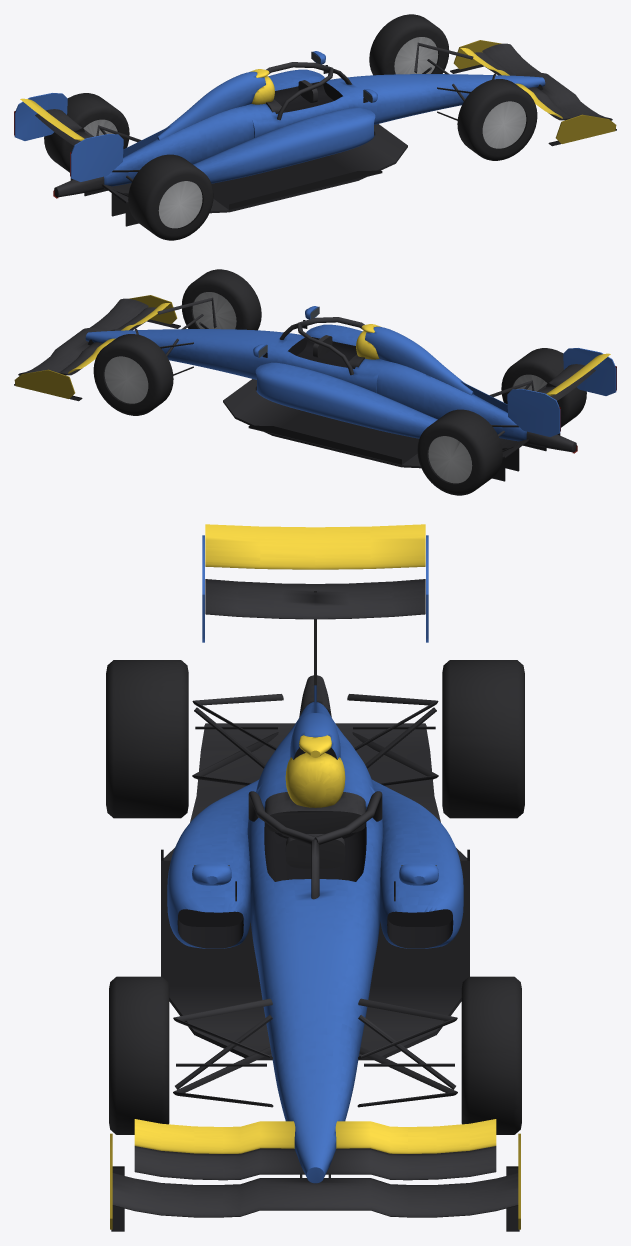
Rendered from car.glb.
3 renders of one model, top to bottom at view 1: azimuth 30°, elevation 25°; view 2: azimuth 150°, elevation 25°; view 3: azimuth 270°, elevation 25°, orthographic. The views are drawn at different scales.
Visible parts, largest first — view 1: body, floor, tyre_rr, tyre_fr, tyre_fl, tyre_rl, fw_main, rw_endplate_r, rim_fr, rim_rr, rw_endplate_l, rim_fl (+12 smaller); view 2: body, floor, tyre_rl, tyre_fl, tyre_fr, tyre_rr, fw_main, rw_endplate_l, rim_fl, rim_rl, rw_endplate_r, rim_fr (+12 smaller); view 3: body, floor, fw_main, tyre_rl, tyre_rr, rw_flap, tyre_fl, tyre_fr, fw_flap2, fw_flap1, diffuser, rw_main (+8 smaller).
Part boxes in pixels (x1=…): body: x1=104, y1=69, x2=545, y2=186; floor: x1=210, y1=124, x2=407, y2=213; tyre_rr: x1=128, y1=154, x2=213, y2=240; tyre_fr: x1=457, y1=79, x2=537, y2=160; tyre_fl: x1=369, y1=14, x2=448, y2=75; tyre_rl: x1=44, y1=93, x2=129, y2=172; fw_main: x1=482, y1=43, x2=612, y2=120; rw_endplate_r: x1=70, y1=134, x2=123, y2=181; rim_fr: x1=482, y1=101, x2=526, y2=148; rim_rr: x1=158, y1=181, x2=202, y2=228; rw_endplate_l: x1=14, y1=93, x2=67, y2=140; rim_fl: x1=394, y1=37, x2=438, y2=74; body: x1=85, y1=324, x2=526, y2=441; floor: x1=223, y1=379, x2=420, y2=468; tyre_rl: x1=417, y1=409, x2=502, y2=495; tyre_fl: x1=93, y1=334, x2=173, y2=415; tyre_fr: x1=182, y1=269, x2=261, y2=330; tyre_rr: x1=501, y1=348, x2=586, y2=427; fw_main: x1=18, y1=298, x2=148, y2=375; rw_endplate_l: x1=507, y1=389, x2=560, y2=436; rim_fl: x1=104, y1=356, x2=148, y2=403; rim_rl: x1=428, y1=436, x2=472, y2=483; rw_endplate_r: x1=563, y1=348, x2=616, y2=395; rim_fr: x1=192, y1=292, x2=236, y2=329; body: x1=167, y1=702, x2=463, y2=1183; floor: x1=161, y1=848, x2=469, y2=1060; fw_main: x1=112, y1=1173, x2=518, y2=1217; tyre_rl: x1=442, y1=660, x2=524, y2=818; tyre_rr: x1=106, y1=660, x2=188, y2=818; rw_flap: x1=205, y1=524, x2=425, y2=569; tyre_fl: x1=461, y1=976, x2=521, y2=1134; tyre_fr: x1=109, y1=976, x2=169, y2=1134; fw_flap2: x1=134, y1=1119, x2=496, y2=1153; fw_flap1: x1=134, y1=1146, x2=496, y2=1180; diffuser: x1=190, y1=723, x2=440, y2=822; rw_main: x1=205, y1=579, x2=425, y2=619.
Bounding box in the file's own units: 5.49 × 1.04 × 1.9.
